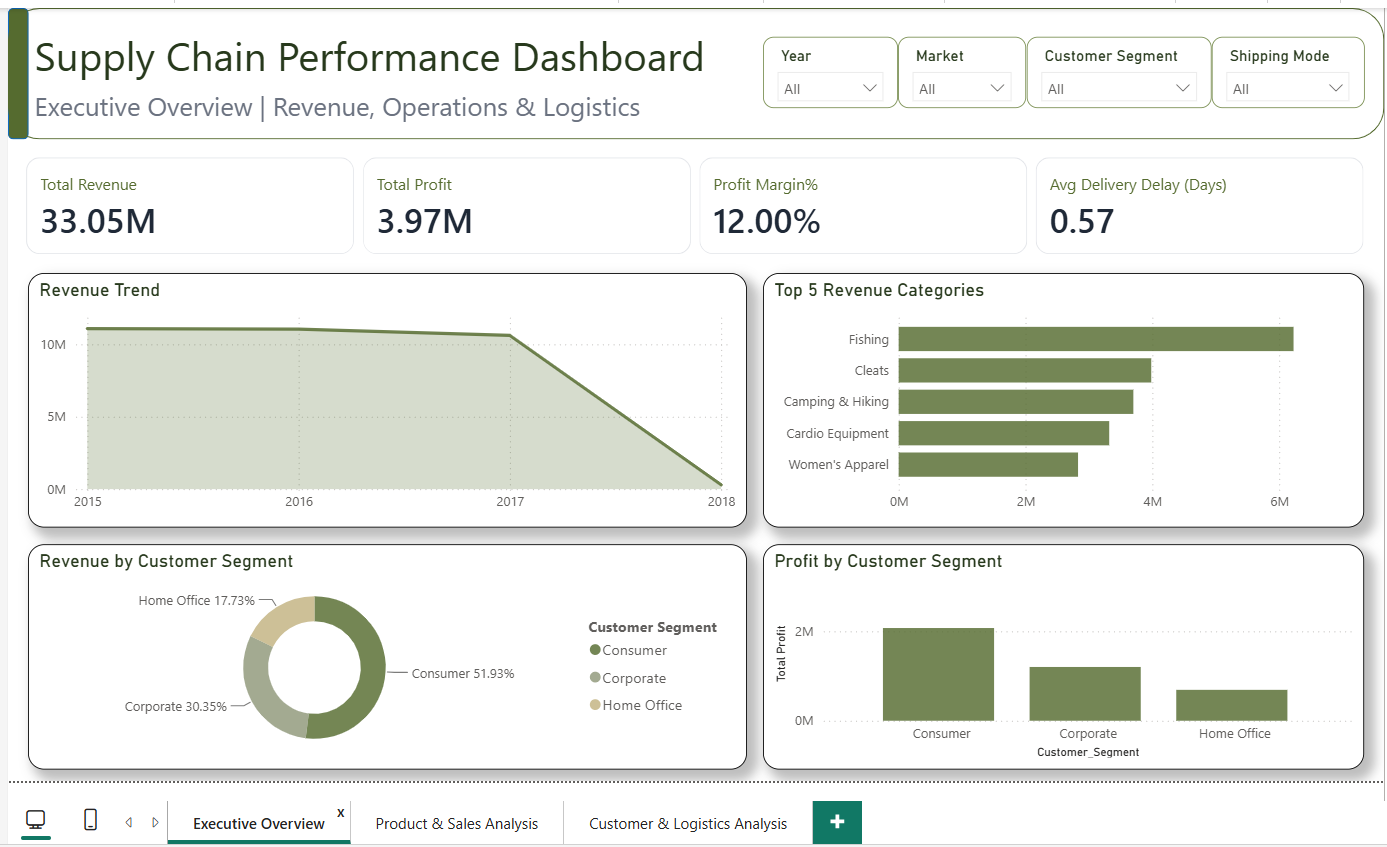

This screenshot's page, from the dashboard's own definition file:
{"tool":"powerbi","page":{"name":"Executive Overview","canvas":[1280,720],"ordinal":0},"visuals":[{"type":"textbox","box":[19.2,70,602.4,52.1],"z":0},{"type":"cardVisual","fields":{"Data":["Measure.Total Revenue","Measure.Total Profit","Measure.Profit Margin%","Measure.Average Delivery Delay"]},"box":[0,122.1,1280.3,124.9],"z":1000},{"type":"textbox","box":[19.2,13.7,650.4,65.9],"z":2000},{"type":"shape","box":[0,0,19.2,122.1],"z":3000},{"type":"shape","box":[0,0,1280.3,122.1],"z":4000},{"type":"lineChart","title":"Revenue Trend","fields":{"Y":["Measure.Total Revenue"],"Category":["Fact_supply_chain.Order_Year"]},"box":[18.9,246.3,668.6,236.8],"z":5000},{"type":"clusteredBarChart","title":"Top 5 Revenue Categories","fields":{"Y":["Measure.Total Revenue"],"Category":["Fact_supply_chain.Category_Name"]},"box":[702.4,246.3,558.9,236.8],"z":6000},{"type":"donutChart","title":"Revenue by Customer Segment","fields":{"Category":["Fact_supply_chain.Customer_Segment"],"Y":["Measure.Total Revenue"]},"box":[18.9,499.4,668.6,209.8],"z":7000},{"type":"clusteredColumnChart","title":"Profit by Customer Segment","fields":{"Category":["Fact_supply_chain.Customer_Segment"],"Y":["Measure.Total Profit"]},"box":[702.4,499.4,558.9,209.8],"z":8000},{"type":"slicer","fields":{"Values":["Fact_supply_chain.Shipping_Mode"]},"box":[1119.2,27.1,142.1,66.3],"z":9000},{"type":"slicer","fields":{"Values":["Fact_supply_chain.Customer_Segment"]},"box":[947.3,27.1,171.9,66.3],"z":10000},{"type":"slicer","fields":{"Values":["Fact_supply_chain.Market"]},"box":[828.3,27.1,119.1,66.3],"z":11000},{"type":"slicer","fields":{"Values":["Dim_Date.Year"]},"box":[702.4,27.1,125.9,66.3],"z":12000}]}

Visuals, with their boxes on the page's 1280x720 design canvas (x1, y1, x2, y2). These are canvas units, not pixel positions in the 1387x847 screenshot, which may show the page scaled, cropped or inside an application window:
textbox: x1=19 y1=70 x2=622 y2=122
cardVisual - Measure.Total Revenue x Measure.Total Profit: x1=0 y1=122 x2=1280 y2=247
textbox: x1=19 y1=14 x2=670 y2=80
shape: x1=0 y1=0 x2=19 y2=122
shape: x1=0 y1=0 x2=1280 y2=122
"Revenue Trend" lineChart: x1=19 y1=246 x2=688 y2=483
"Top 5 Revenue Categories" clusteredBarChart: x1=702 y1=246 x2=1261 y2=483
"Revenue by Customer Segment" donutChart: x1=19 y1=499 x2=688 y2=709
"Profit by Customer Segment" clusteredColumnChart: x1=702 y1=499 x2=1261 y2=709
slicer - Fact_supply_chain.Shipping_Mode: x1=1119 y1=27 x2=1261 y2=93
slicer - Fact_supply_chain.Customer_Segment: x1=947 y1=27 x2=1119 y2=93
slicer - Fact_supply_chain.Market: x1=828 y1=27 x2=947 y2=93
slicer - Dim_Date.Year: x1=702 y1=27 x2=828 y2=93
